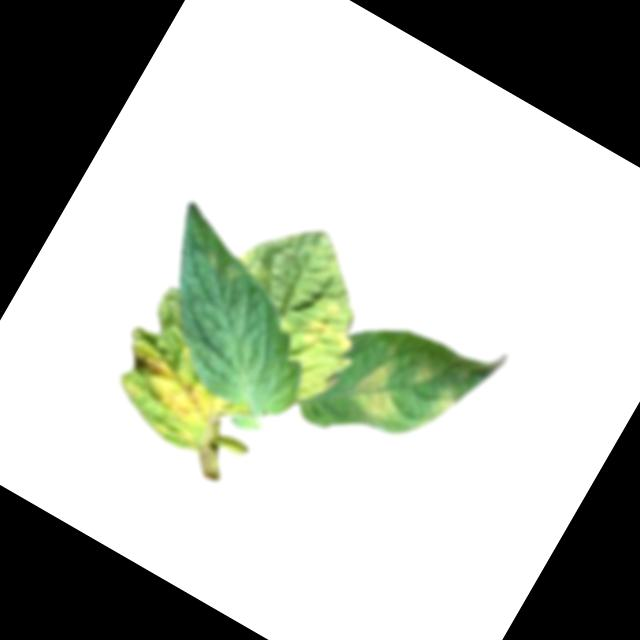Leaf_Mold: (95, 319, 267, 472), (345, 340, 426, 427), (294, 290, 372, 367)
